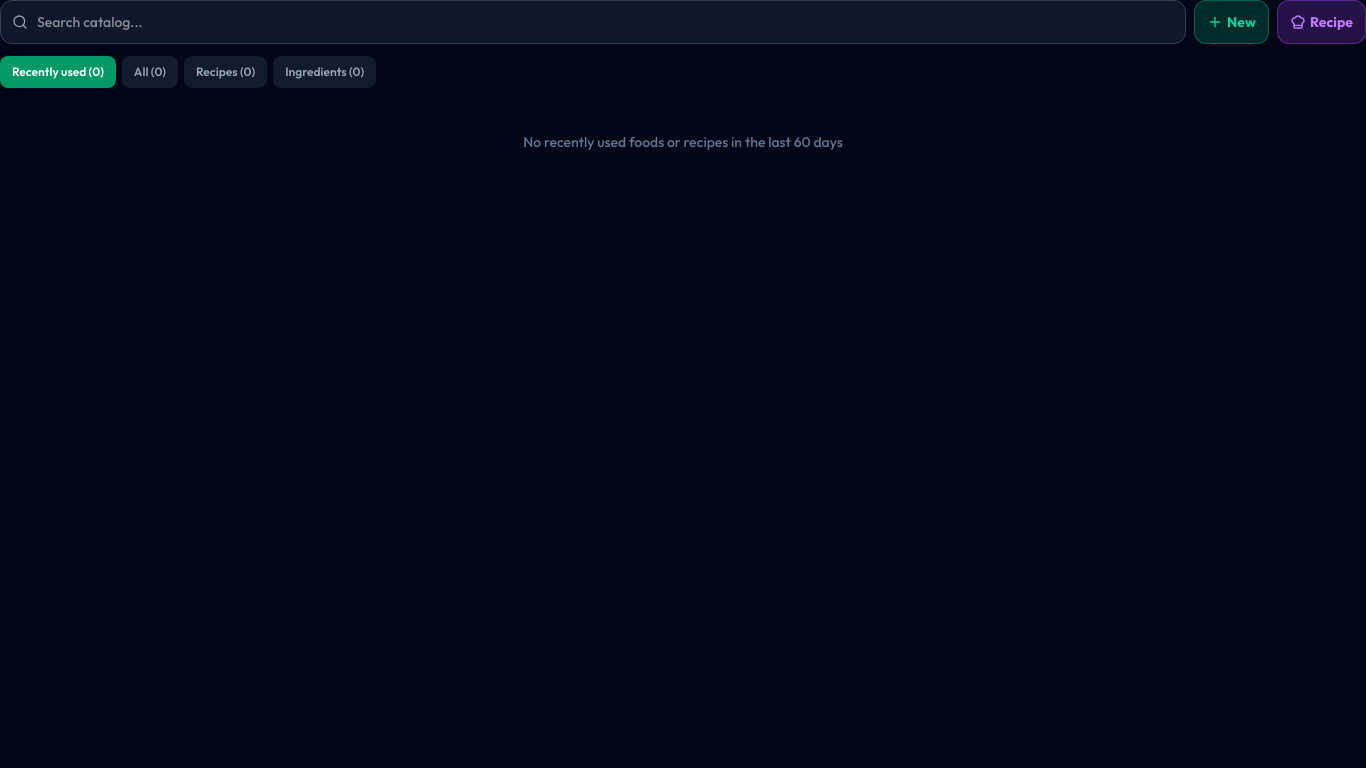
Test: CatalogManager - Custom Portions UI › closes IngredientBuilder when back button is clicked in the header
Click the button "New" at (1231, 22), box [1194,0,1269,44]
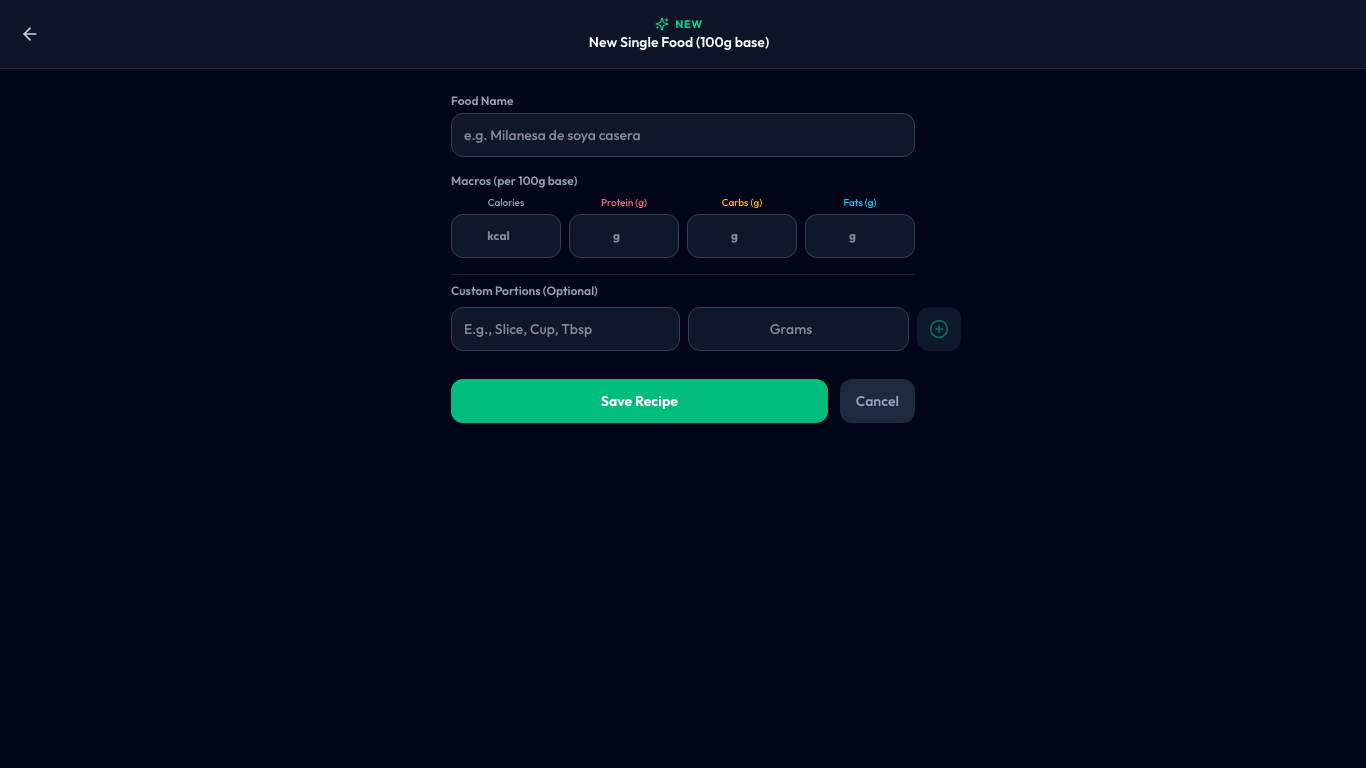
Now the button with test id "btn-back-ingredient-builder" is shown
Click the button with test id "btn-back-ingredient-builder" at (30, 34), box [8,12,52,56]
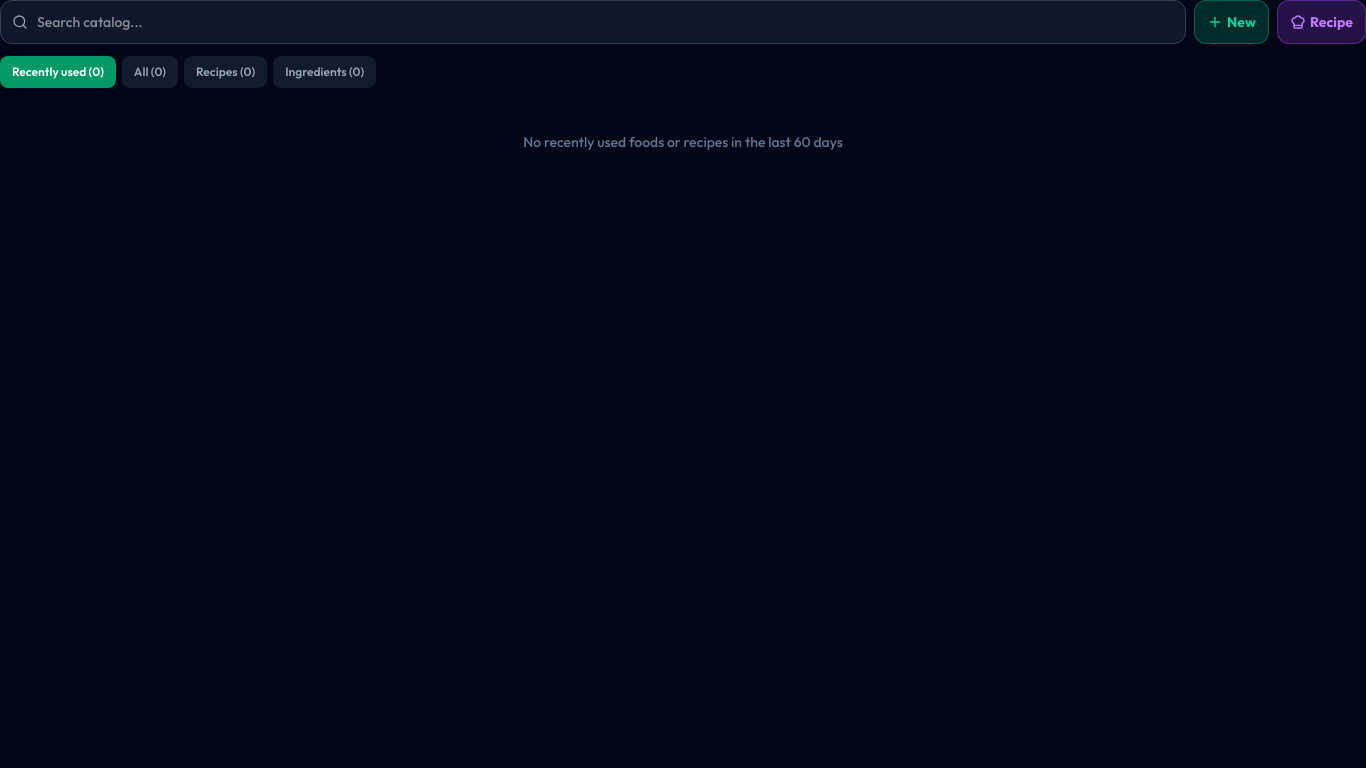
Now the button with test id "btn-back-ingredient-builder" is gone
